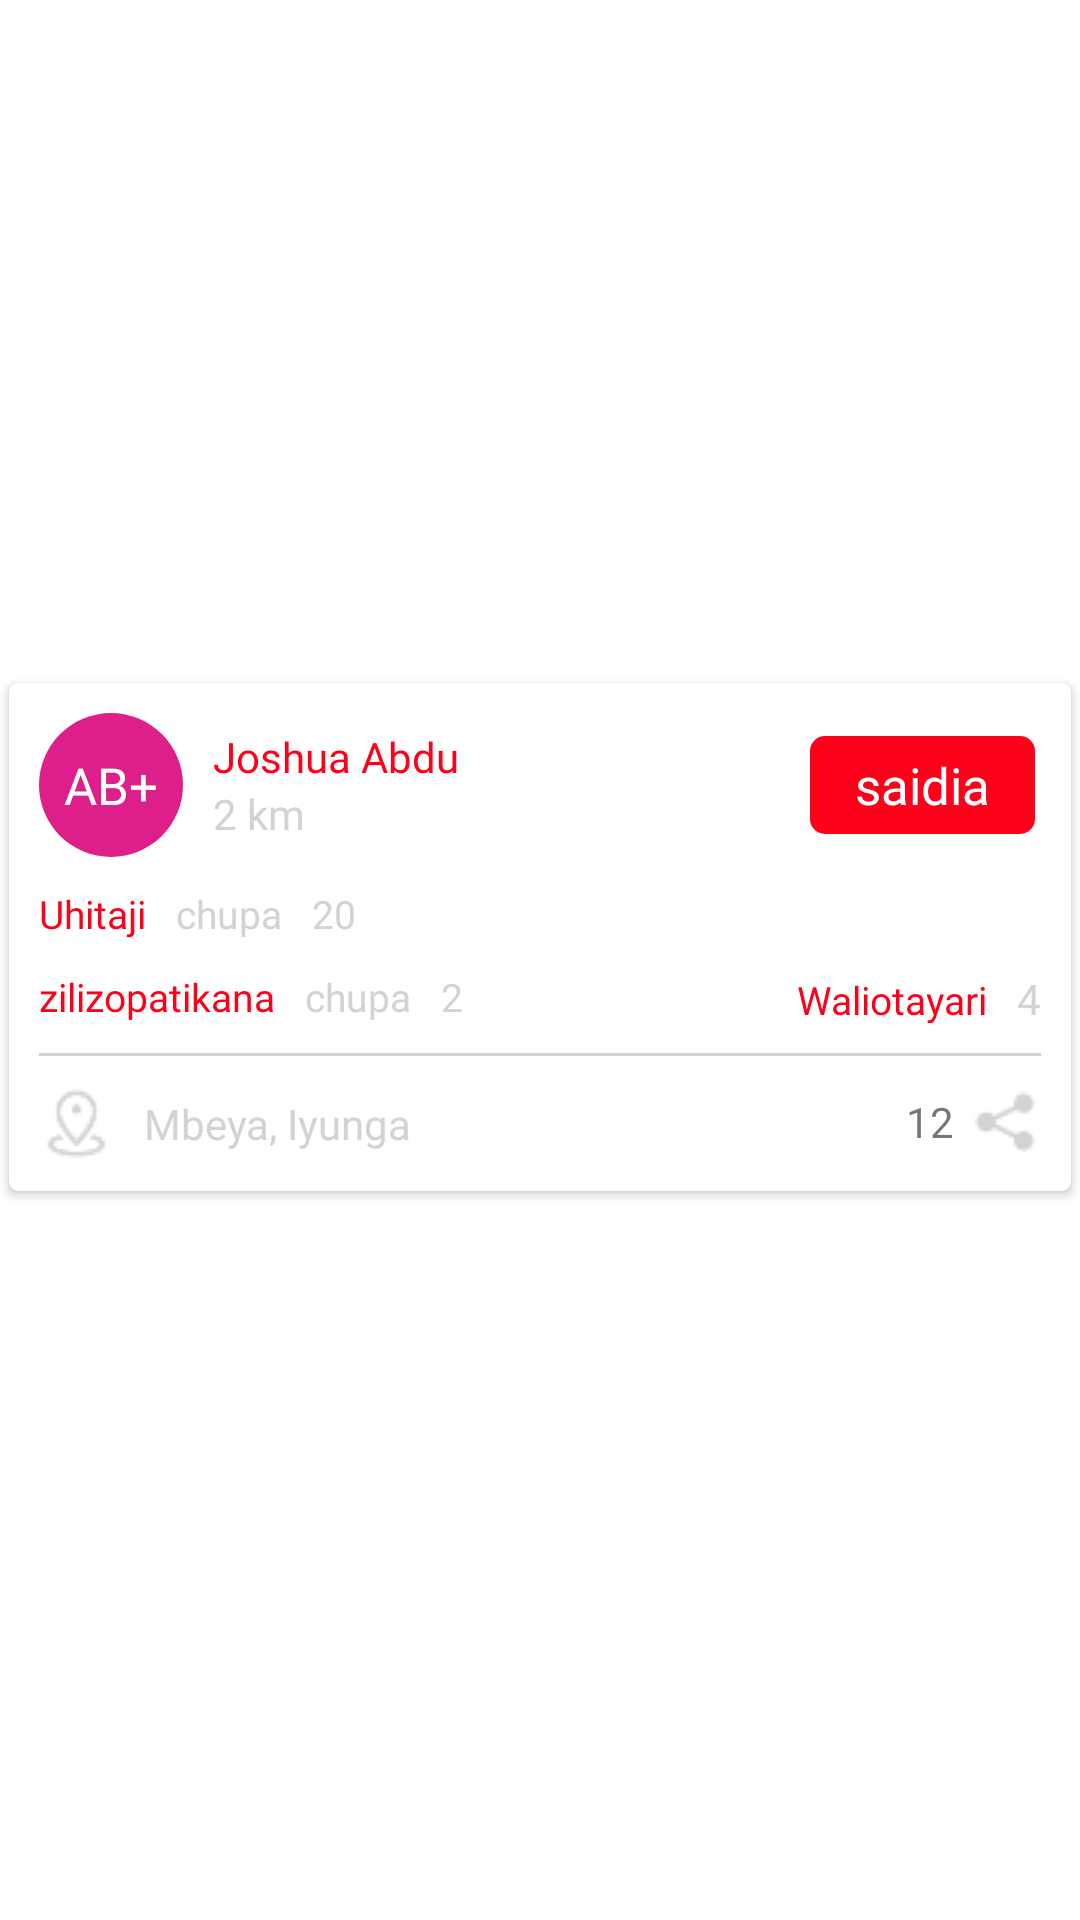

Point at icon controls on the screen. Image size 1080w x 1920h, points as (x,y).
location: (76,1123)
share: (1005,1122)
